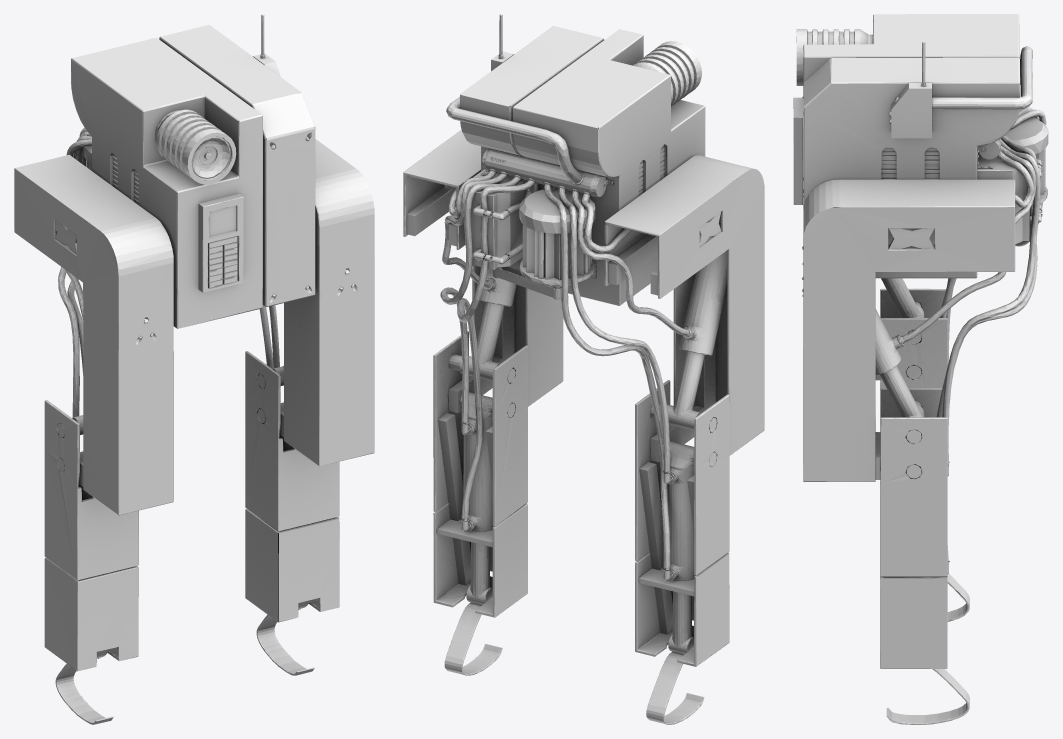
Rendered from redbot.glb.
3 views of the same model, side by side, from view 1: azimuth 30°, elevation 25°; view 2: azimuth 150°, elevation 25°; view 3: azimuth 270°, elevation 25° (orthographic).
Visible parts, largest first — view 1: RedBot; view 2: RedBot; view 3: RedBot.
Part boxes in pixels (x1,y1,x2,y2): RedBot: (14, 14, 374, 724); RedBot: (403, 14, 764, 724); RedBot: (793, 14, 1048, 724).
Size of the model in its own units: 0.6375 by 1.53 by 0.5288.
Materials: 1 (1 with a texture image).
